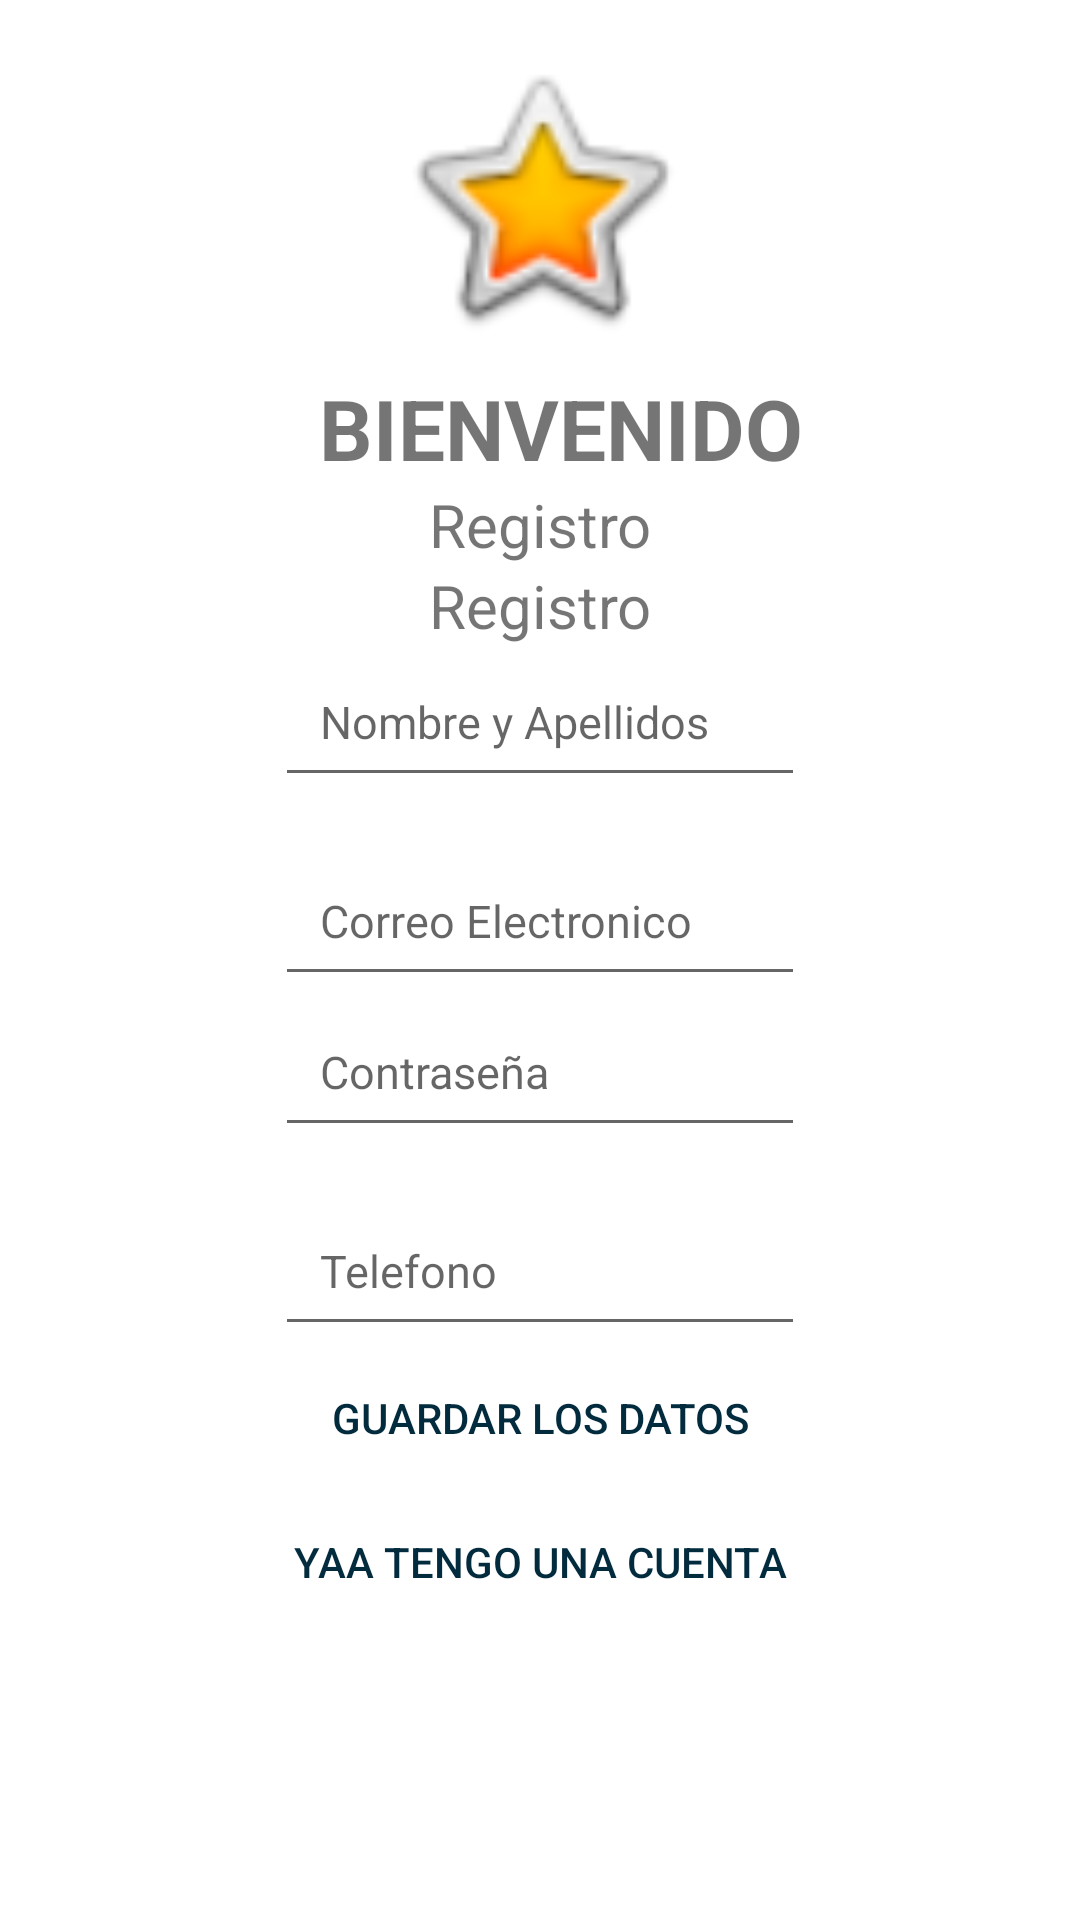

Screen size 1080w x 1920h. Icon name, then its box in pixels as {"left": x1, "top": y1, "right": x2, "bottom": y2}:
star on: {"left": 418, "top": 78, "right": 669, "bottom": 323}
